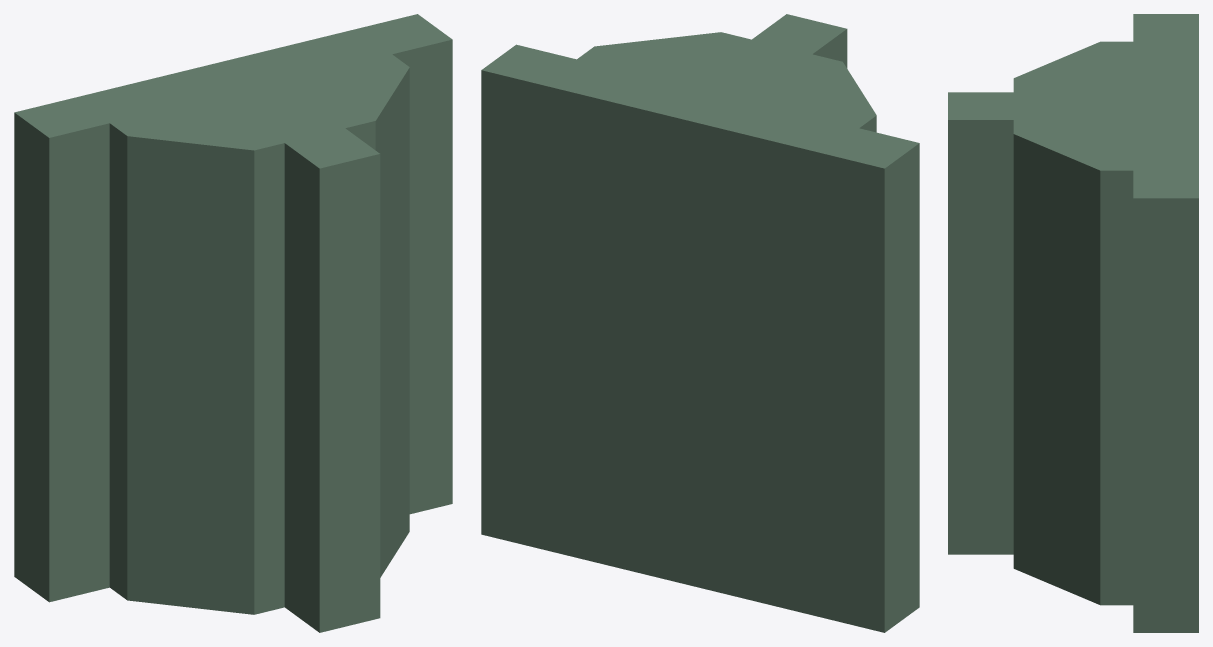
File: W2_WallCorner_Angular2C.fbx
The picture shows the model from 3 angles, left to right: view 1: azimuth 30°, elevation 25°; view 2: azimuth 150°, elevation 25°; view 3: azimuth 270°, elevation 25°; orthographic projection. The views are drawn at different scales.
Parts seen in each view (by area): view 1: W2_WallCorner_Angular2C.001; view 2: W2_WallCorner_Angular2C.001; view 3: W2_WallCorner_Angular2C.001.
Part boxes in pixels (<box>): W2_WallCorner_Angular2C.001: <box>14,14,452,632</box>; W2_WallCorner_Angular2C.001: <box>481,14,919,632</box>; W2_WallCorner_Angular2C.001: <box>948,14,1198,632</box>.
Size of the model in its own units: 2 by 2.2 by 1.15.
